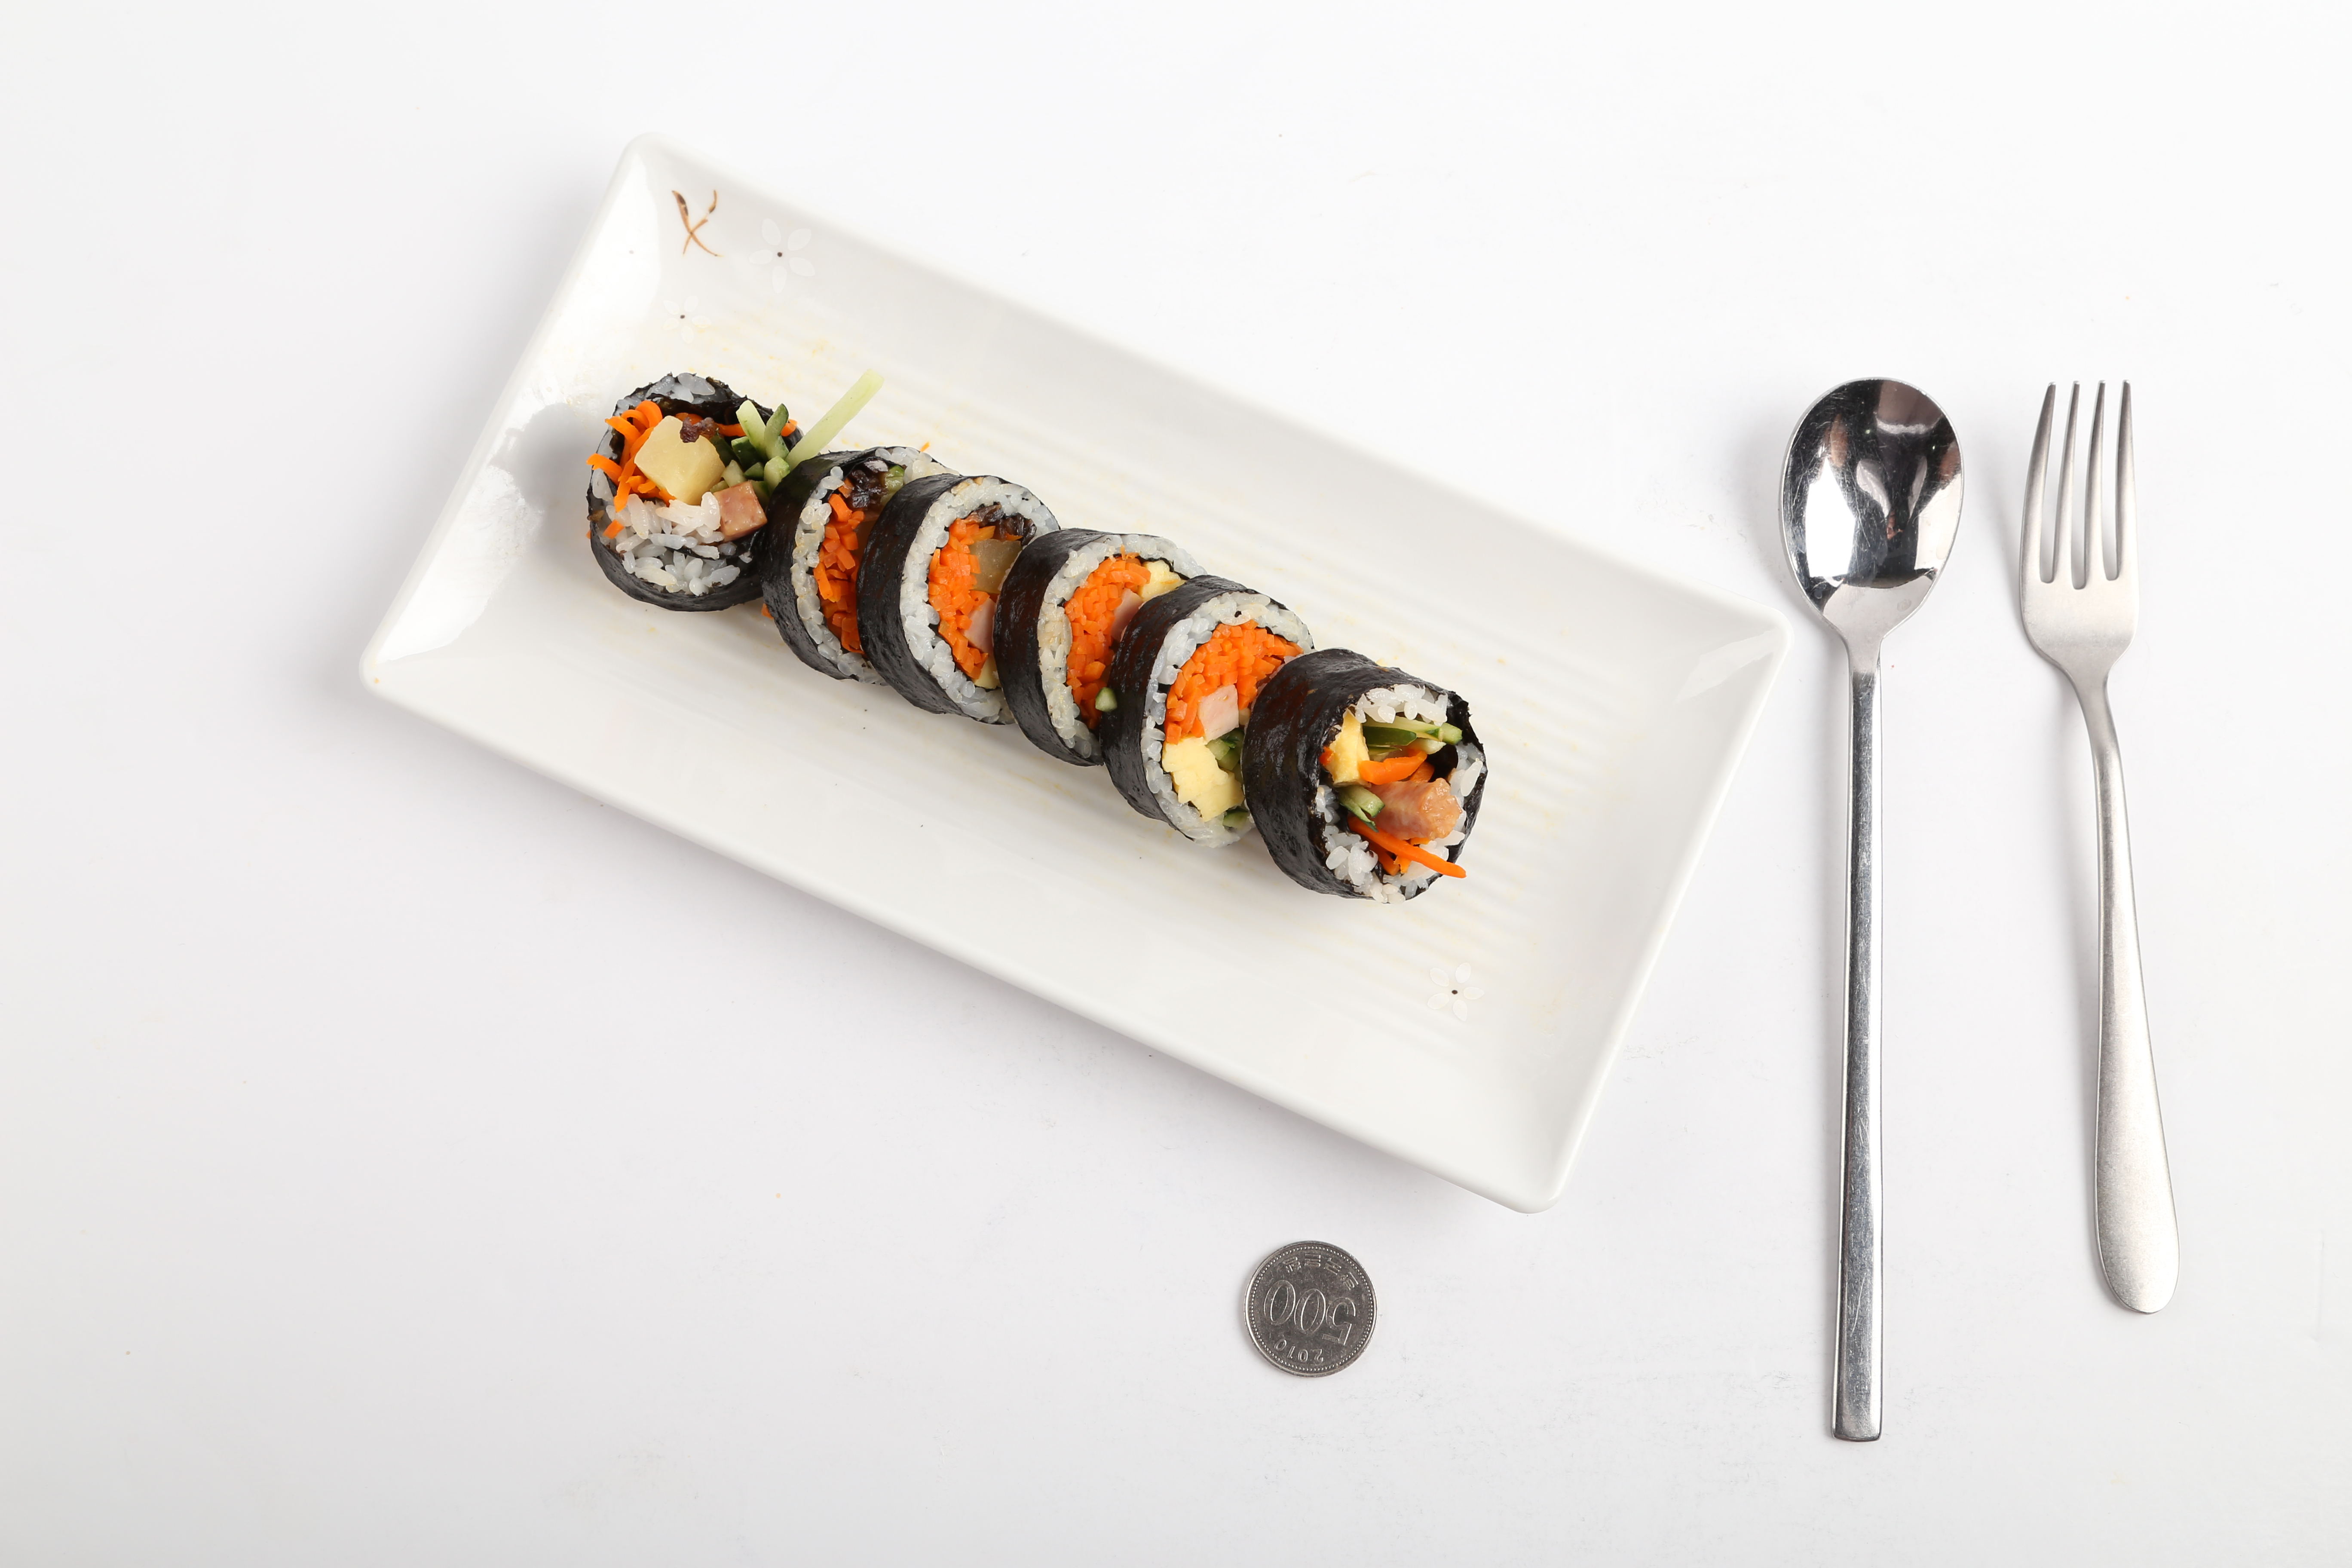dish: (353, 135, 1781, 1216)
ref_coin: (1237, 1232, 1381, 1386)
ref_fork: (2012, 369, 2147, 735)
ref_spoon: (1773, 371, 1967, 698)
김밥: (581, 362, 1486, 910)
